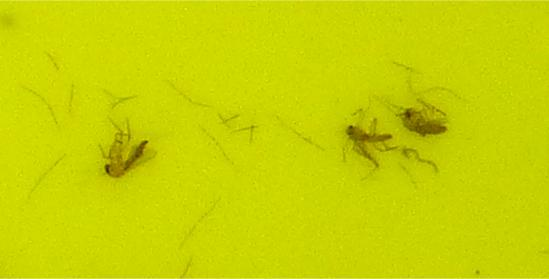Nematocera: (343, 117, 395, 170), (100, 130, 149, 179), (397, 100, 449, 142)
